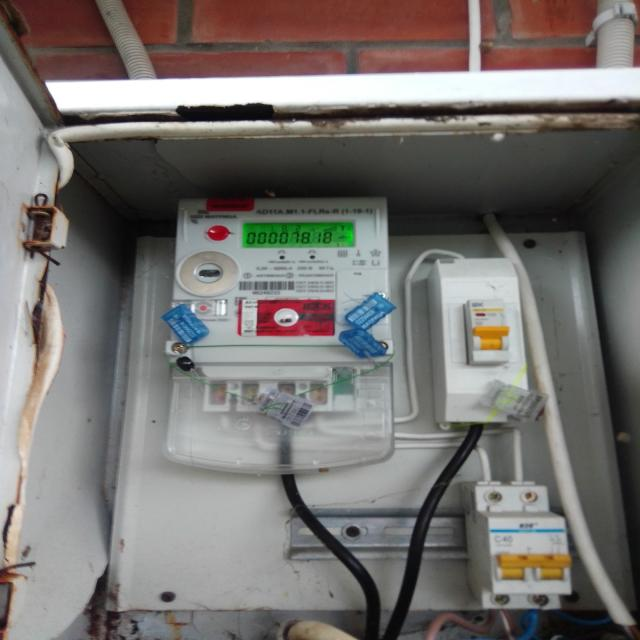Display: (238, 219, 356, 248)
meter_matrica: (146, 183, 400, 490)
seal_elso: (253, 388, 317, 431)
seal_imp: (236, 300, 336, 338)
